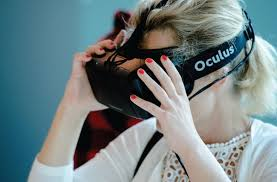oculus: (85, 33, 207, 120)
